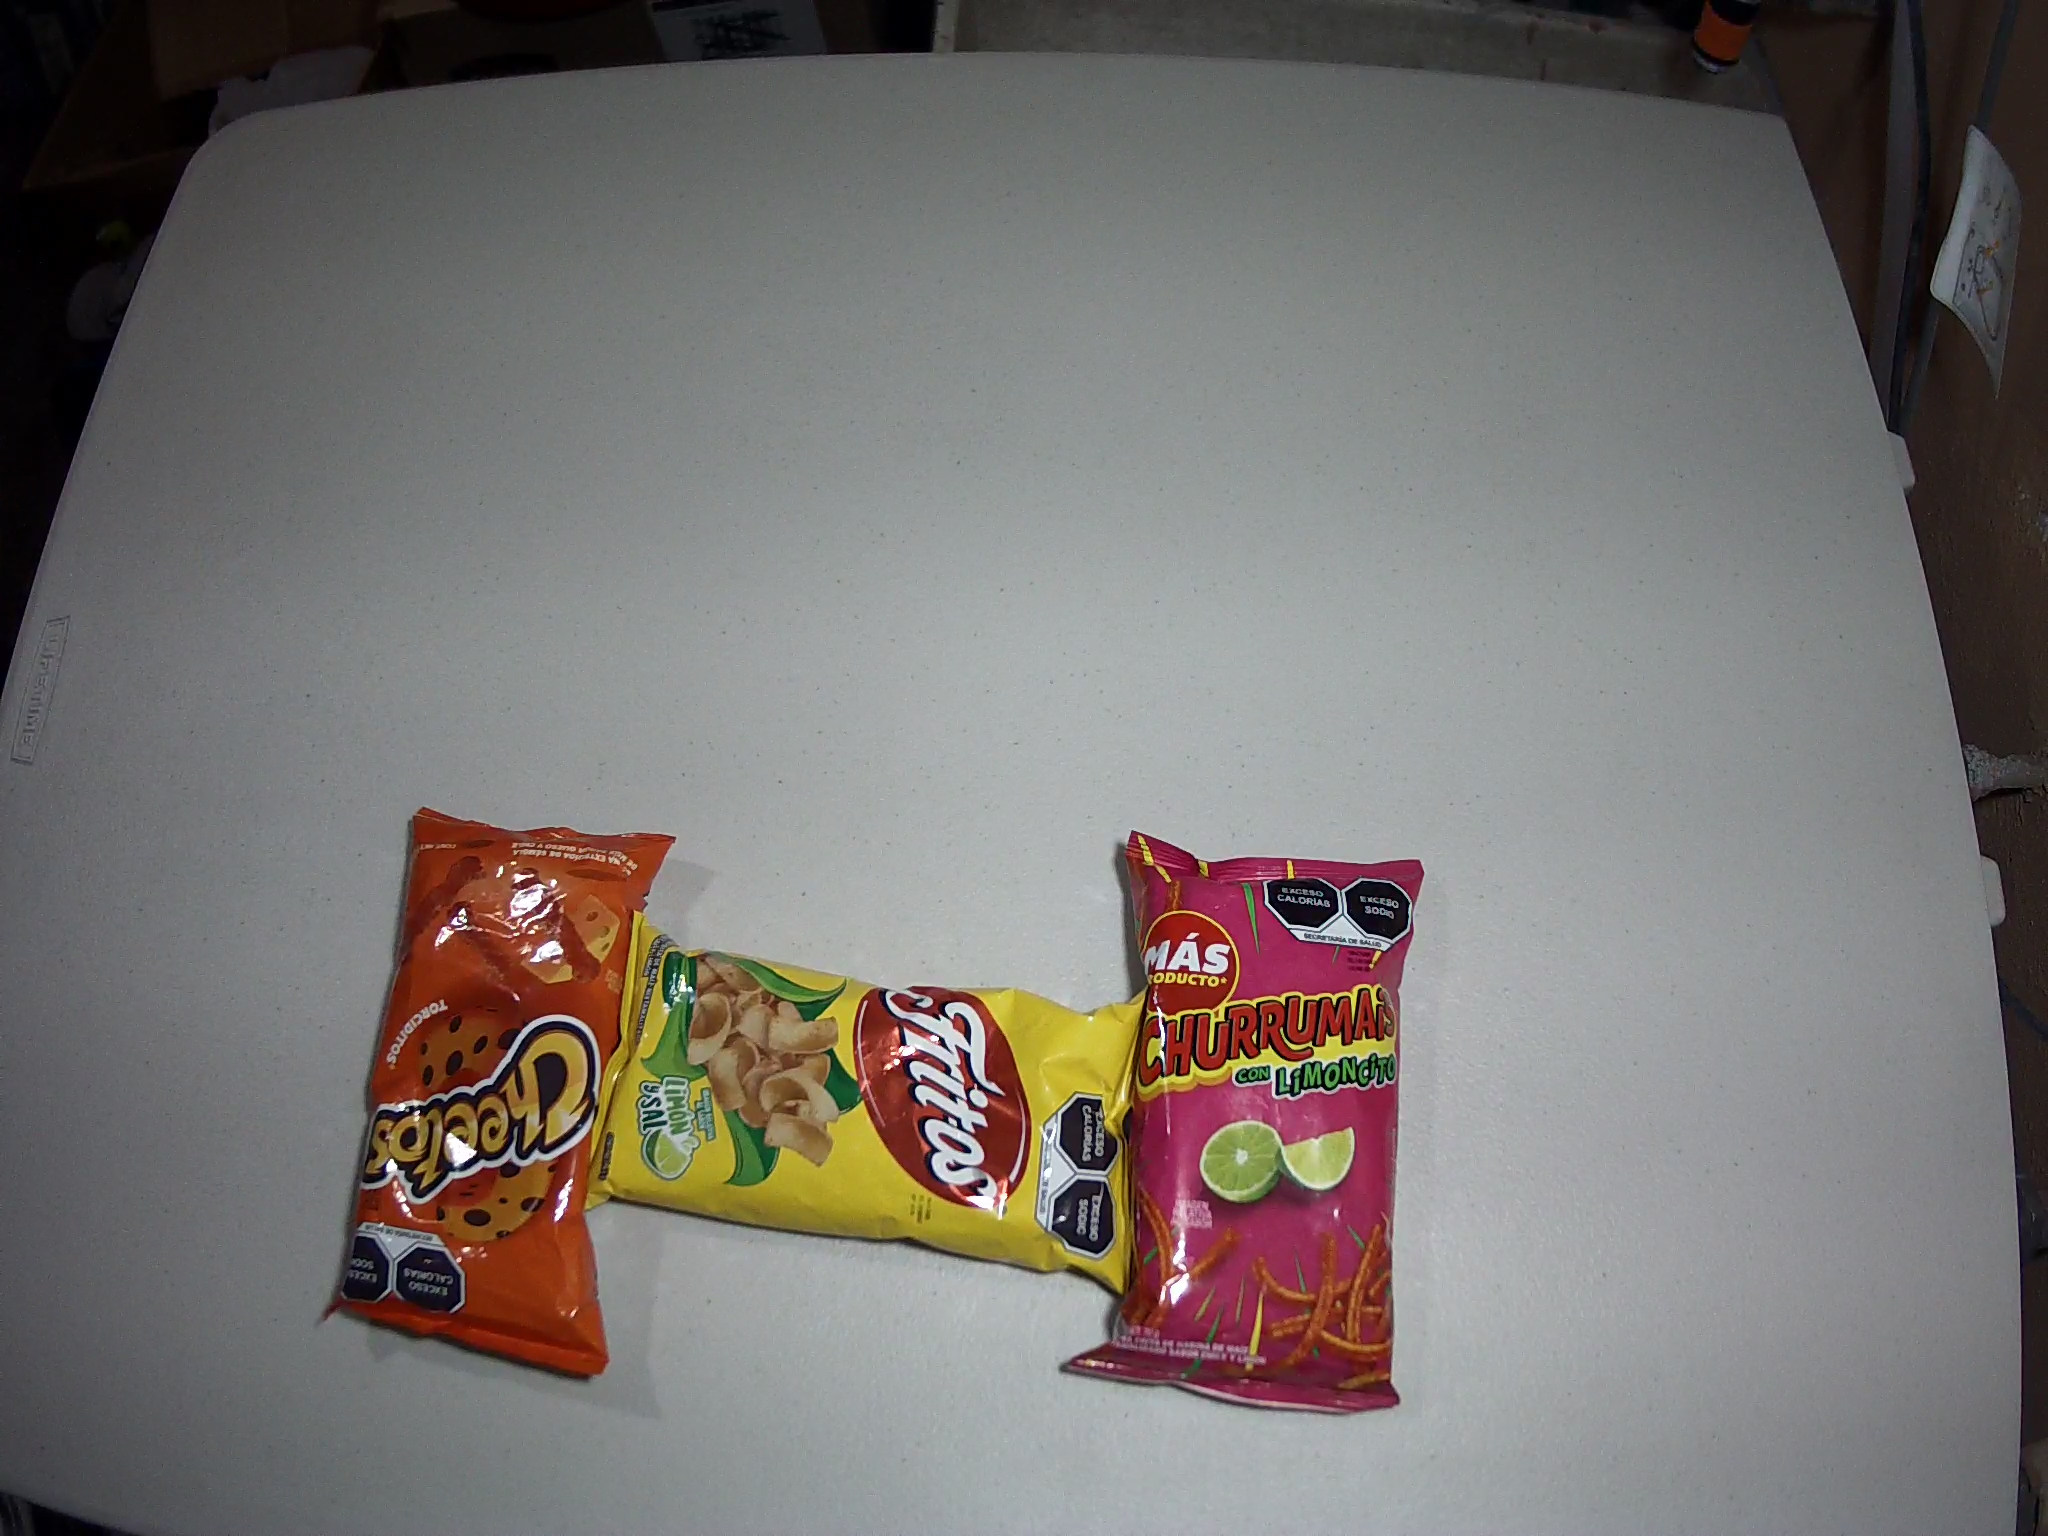CheetosTorciditos_55_F: (323, 807, 677, 1378)
Churrumais_70_F: (1064, 831, 1426, 1417)
FritosSalLimon_65_F: (581, 908, 1156, 1304)
